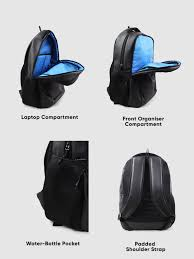backpack: (106, 25, 181, 108), (18, 25, 84, 108), (36, 140, 88, 231), (117, 149, 175, 230)
